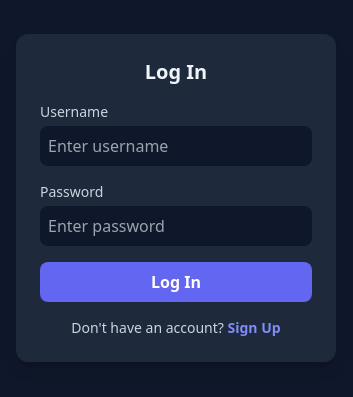
Scenario: LoginForma component › shows server error if login fails
Step 1. Type "testuser" into the field with placeholder "Enter username" → [176, 146], box x1=40 y1=126 x2=312 y2=166
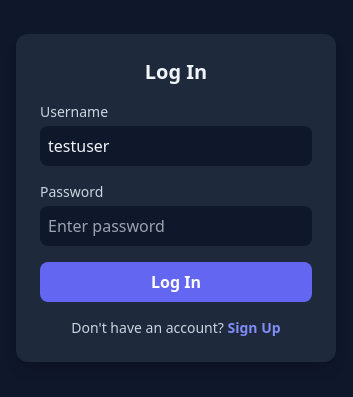
Step 2. Type "123456" into the password field with placeholder "Enter password" → [176, 226], box x1=40 y1=206 x2=312 y2=246
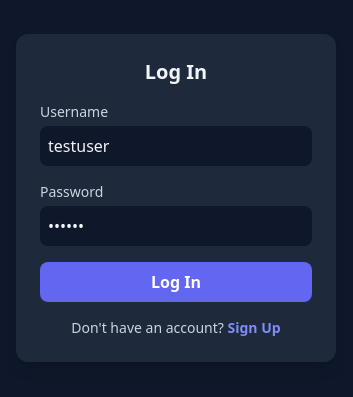
Step 3. Click the button "Log In" → [176, 282], box x1=40 y1=262 x2=312 y2=302
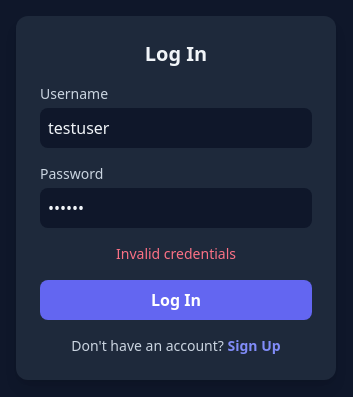
Result: the text "Invalid credentials" is shown at x1=116 y1=244 x2=236 y2=263
